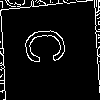C: (24, 27, 75, 65)
